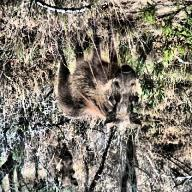boar: (58, 40, 151, 137)
